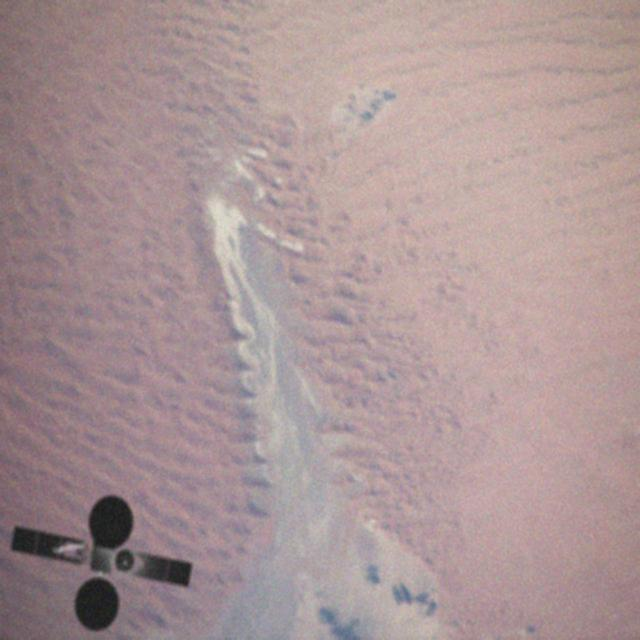satellite: (0, 481, 212, 640)
